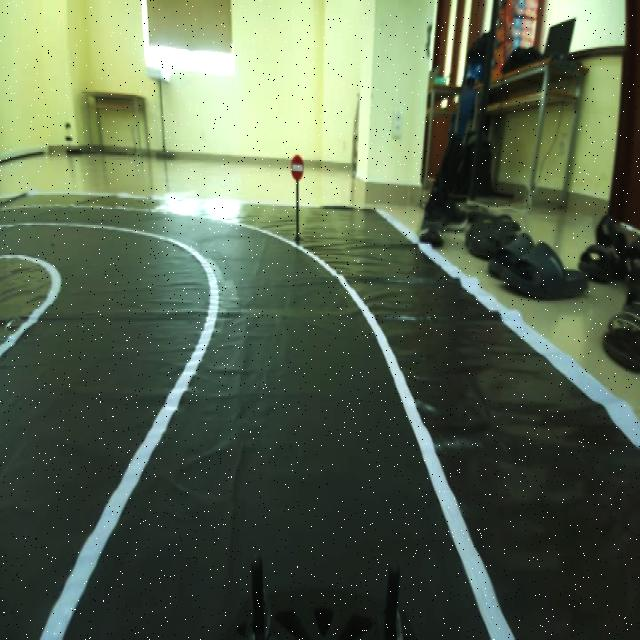no_entry: (286, 150, 308, 186)
